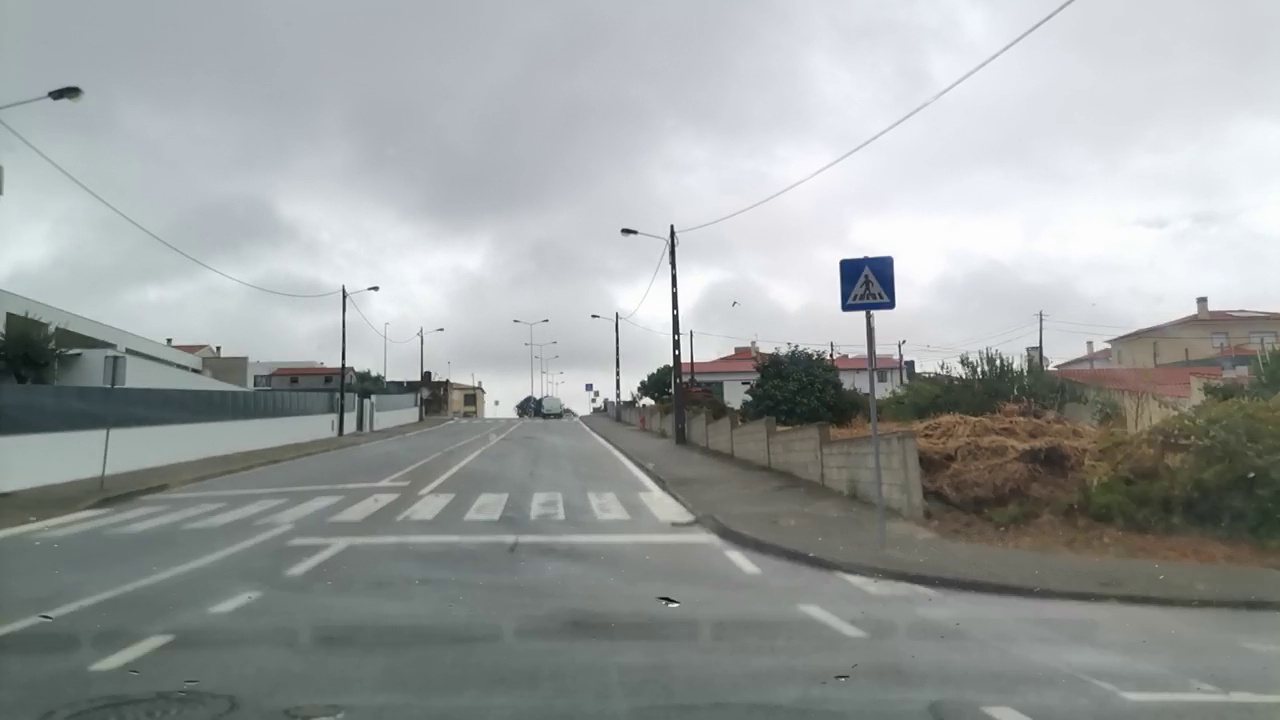Stairs: (16, 492, 693, 536)
